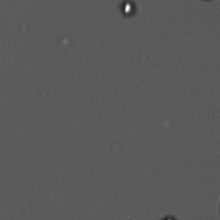Living Cell: (119, 1, 137, 17)
